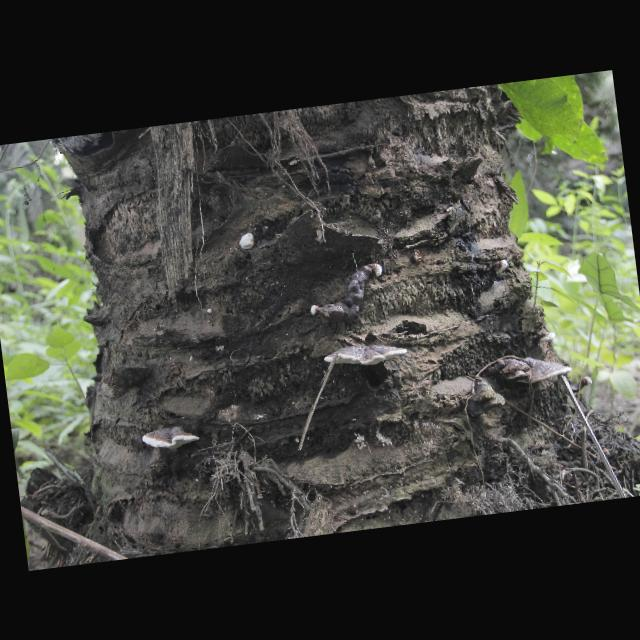ganoderma: (316, 266, 376, 328), (324, 339, 409, 372), (142, 424, 202, 455), (519, 353, 575, 386), (490, 357, 532, 383), (532, 330, 557, 343)
primordium: (239, 233, 257, 252), (493, 258, 510, 275), (370, 263, 384, 279), (581, 376, 595, 389), (310, 306, 320, 318), (207, 308, 213, 315)
